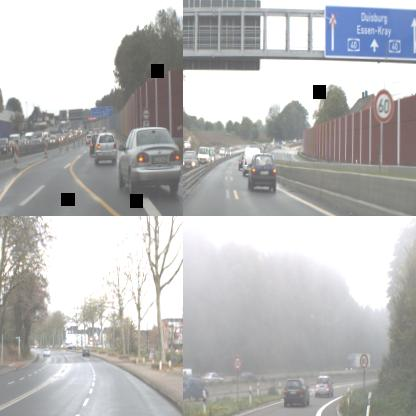no overtaking (trucks): (141, 107, 150, 120)
speed limit 60: (373, 88, 394, 123)
speed limit 80: (358, 352, 368, 369), (232, 355, 242, 370)
